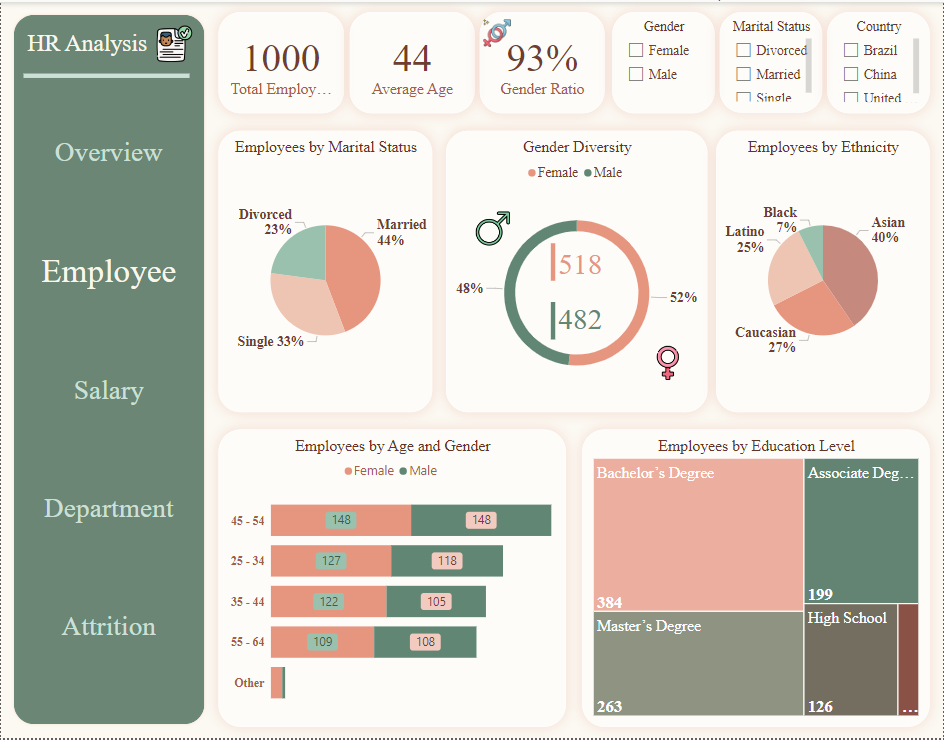

What the dashboard file says about the page in this screenshot:
{"tool":"powerbi","page":{"name":"Employee","canvas":[1280,1000],"ordinal":1},"visuals":[{"type":"shape","box":[13.6,13.6,266.6,971.5],"z":0},{"type":"textbox","box":[30,31.9,244.8,50.1],"z":0,"group":"g2"},{"type":"donutChart","title":"Gender Diversity","fields":{"Category":["Employee_Data.Gender"],"Y":["Count(Employee_Data.EEID)"]},"box":[604,174.9,355,382.1],"z":0,"group":"g4"},{"type":"card","fields":{"Values":["All_Measures.Females"]},"box":[724.6,307.3,124.2,91.7],"z":0,"group":"g1"},{"type":"card","fields":{"Values":["All_Measures.Males"]},"box":[724.6,399.1,124.2,59.4],"z":0,"group":"g3"},{"type":"image","box":[186.1,27.2,97,59.4],"z":1000,"group":"g2"},{"type":"pageNavigator","box":[34,108.7,225.9,818.6],"z":1000},{"type":"group","id":"g1","title":"Group 2","box":[724.6,307.3,124.2,91.7],"z":1000,"group":"g4"},{"type":"shape","box":[724.6,327.7,49.7,51],"z":1000,"group":"g1"},{"type":"shape","box":[724.6,407.6,49.7,51],"z":1000,"group":"g3"},{"type":"group","id":"g2","title":"Group 1","box":[30,27.2,253.1,59.4],"z":2000},{"type":"group","id":"g3","title":"Group 3","box":[724.6,399.1,124.2,59.4],"z":2000,"group":"g4"},{"type":"shape","box":[30,86,225.9,27.2],"z":3000},{"type":"barChart","title":"Employees by Age and Gender","fields":{"Category":["Employee_Data.Age (groups)"],"Y":["Count(Employee_Data.EEID)"],"Series":["Employee_Data.Gender"]},"box":[295.5,580.8,472.1,404.2],"z":4000},{"type":"treemap","title":"Employees by Education Level","fields":{"Values":["CountNonNull(Employee_Data.EEID)"],"Group":["Employee_Data.Education_Level"]},"box":[789.7,580.8,472.1,404.2],"z":5000},{"type":"card","fields":{"Values":["All_Measures.TotalEmployees"]},"box":[295.5,13.6,170,137.6],"z":6000},{"type":"group","id":"g4","title":"Group 4","box":[604,174.9,355,382.1],"z":7000},{"type":"pieChart","title":"Employees by Marital Status","fields":{"Category":["Employee_Data.Marital_Status"],"Y":["Count(Employee_Data.EEID)"]},"box":[295.5,174.9,290.4,382.1],"z":8000},{"type":"pieChart","title":"Employees by Ethnicity","fields":{"Y":["CountNonNull(Employee_Data.EEID)"],"Category":["Employee_Data.Ethnicity"]},"box":[971.5,174.9,290.4,382.1],"z":9000},{"type":"card","fields":{"Values":["All_Measures.Average_Age"]},"box":[473,13,169.8,137.6],"z":10000},{"type":"card","fields":{"Values":["All_Measures.Gender_Diversity_Ratio"]},"box":[650,13,169.8,137.6],"z":11000},{"type":"image","box":[650.5,18.7,47.6,47.6],"z":12000},{"type":"image","box":[640.3,258.2,56,98.5],"z":13000},{"type":"image","box":[878.1,441.6,56,98],"z":14000},{"type":"slicer","title":"Gender","fields":{"Values":["Employee_Data.Gender"]},"box":[831,13,139.3,137.6],"z":15000},{"type":"slicer","title":"Marital Status","fields":{"Values":["Employee_Data.Marital_Status"]},"box":[976,13,139.3,137],"z":16000},{"type":"slicer","title":"Country","fields":{"Values":["Countries.Country"]},"box":[1122.6,13.6,139.3,137.6],"z":17000}]}

Visuals, with their boxes in screenshot pixels (x1, y1, x2, y2), scaled from the page's 1280x1000 canvas onto the 944x740 screenshot:
shape: pyautogui.locateOnScreen(10, 10, 207, 729)
textbox: pyautogui.locateOnScreen(22, 24, 203, 61)
"Gender Diversity" donutChart: pyautogui.locateOnScreen(445, 129, 707, 412)
card - All_Measures.Females: pyautogui.locateOnScreen(534, 227, 626, 295)
card - All_Measures.Males: pyautogui.locateOnScreen(534, 295, 626, 339)
image: pyautogui.locateOnScreen(137, 20, 209, 64)
pageNavigator: pyautogui.locateOnScreen(25, 80, 192, 686)
"Group 2" group: pyautogui.locateOnScreen(534, 227, 626, 295)
shape: pyautogui.locateOnScreen(534, 242, 571, 280)
shape: pyautogui.locateOnScreen(534, 302, 571, 339)
"Group 1" group: pyautogui.locateOnScreen(22, 20, 209, 64)
"Group 3" group: pyautogui.locateOnScreen(534, 295, 626, 339)
shape: pyautogui.locateOnScreen(22, 64, 189, 84)
"Employees by Age and Gender" barChart: pyautogui.locateOnScreen(218, 430, 566, 729)
"Employees by Education Level" treemap: pyautogui.locateOnScreen(582, 430, 931, 729)
card - All_Measures.TotalEmployees: pyautogui.locateOnScreen(218, 10, 343, 112)
"Group 4" group: pyautogui.locateOnScreen(445, 129, 707, 412)
"Employees by Marital Status" pieChart: pyautogui.locateOnScreen(218, 129, 432, 412)
"Employees by Ethnicity" pieChart: pyautogui.locateOnScreen(716, 129, 931, 412)
card - All_Measures.Average_Age: pyautogui.locateOnScreen(349, 10, 474, 111)
card - All_Measures.Gender_Diversity_Ratio: pyautogui.locateOnScreen(479, 10, 605, 111)
image: pyautogui.locateOnScreen(480, 14, 515, 49)
image: pyautogui.locateOnScreen(472, 191, 514, 264)
image: pyautogui.locateOnScreen(648, 327, 689, 399)
"Gender" slicer: pyautogui.locateOnScreen(613, 10, 716, 111)
"Marital Status" slicer: pyautogui.locateOnScreen(720, 10, 823, 111)
"Country" slicer: pyautogui.locateOnScreen(828, 10, 931, 112)
